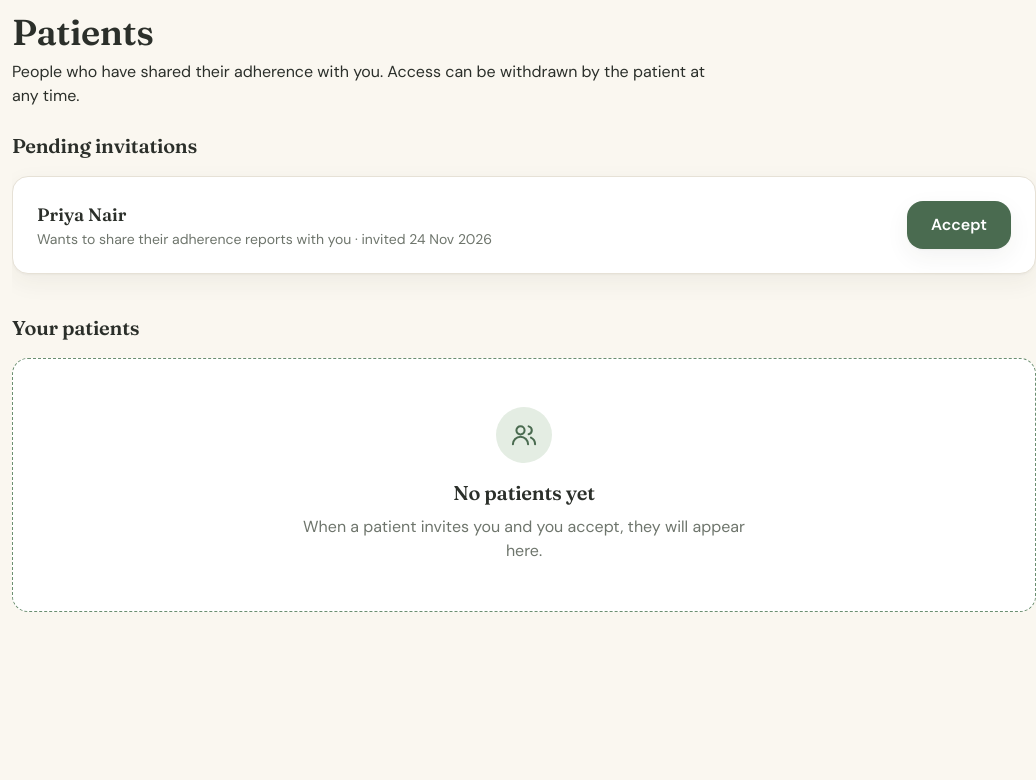
Test: PatientsPage: pending invitations › accepting posts to the API, confirms, removes the invitation and refreshes the patient list
The image size is (1036, 780).
Check: the text "Priya Nair" is shown, box [37,203,126,226]
Step 1. Click the button with aria-label "Accept invitation from Priya Nair" → (959, 225), box [907,201,1011,249]
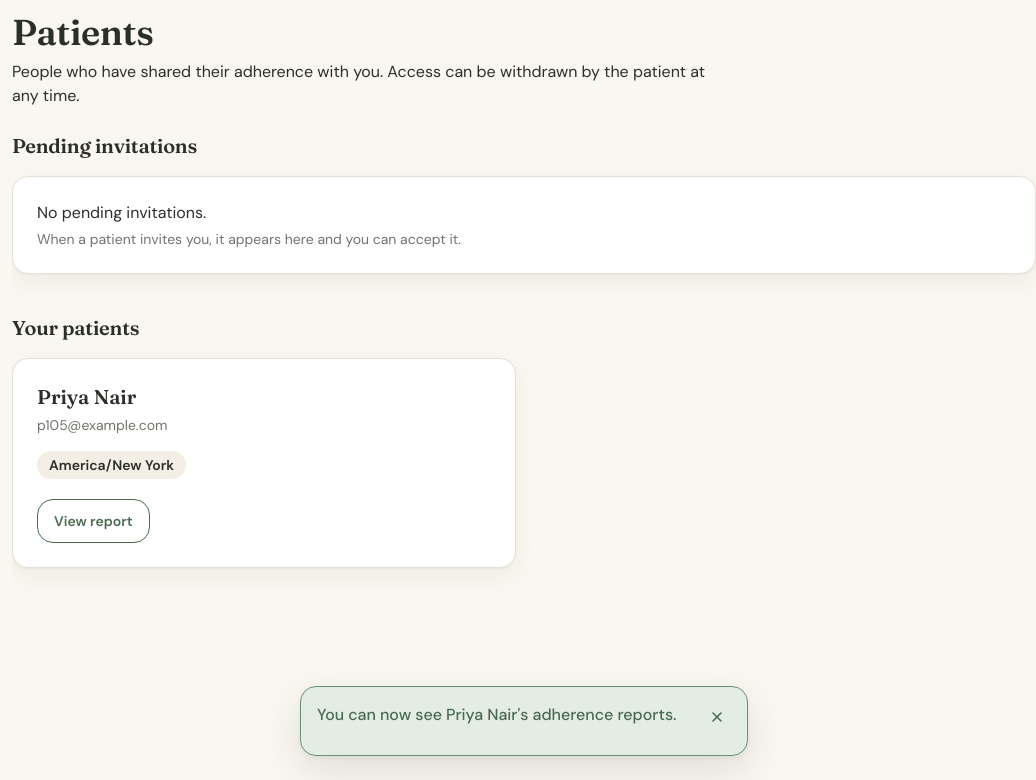
Check: the text "You can now see Priya Nair's adherence reports." is shown, box [317,703,683,727]
Check: the link with aria-label "View adherence report for Priya Nair" is shown, box [37,499,150,543]
